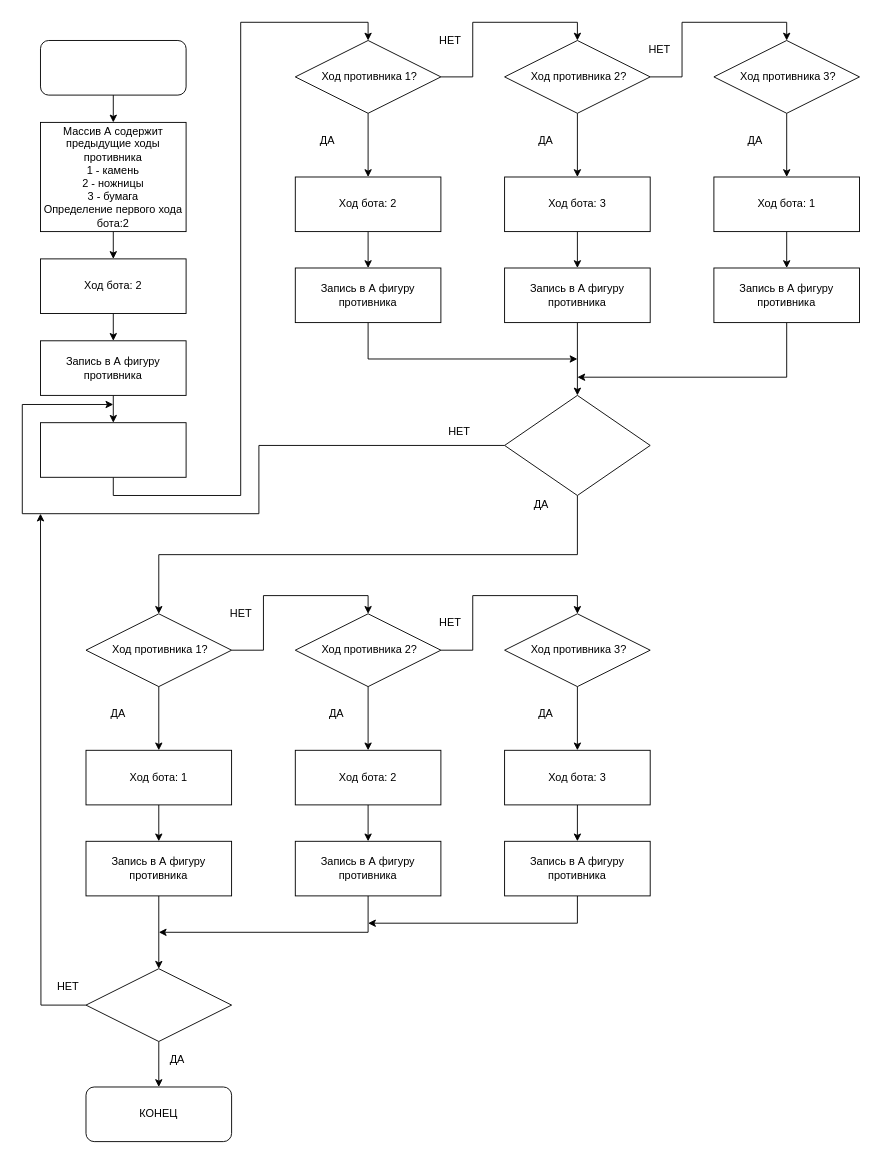
The diagram is 875 pixels wide and 1158 high, and some of its shapes have lost their labels. Here are the shapes that lost their labels. From the top down, the centre of each, then its label:
At pixel 113 67: "НАЧАЛО".
At pixel 113 449: "Просмотр предыдущего хода противника".
At pixel 577 444: "последние 2 фигуры противника повторяются?".
At pixel 158 1004: "Игра окончена?".
